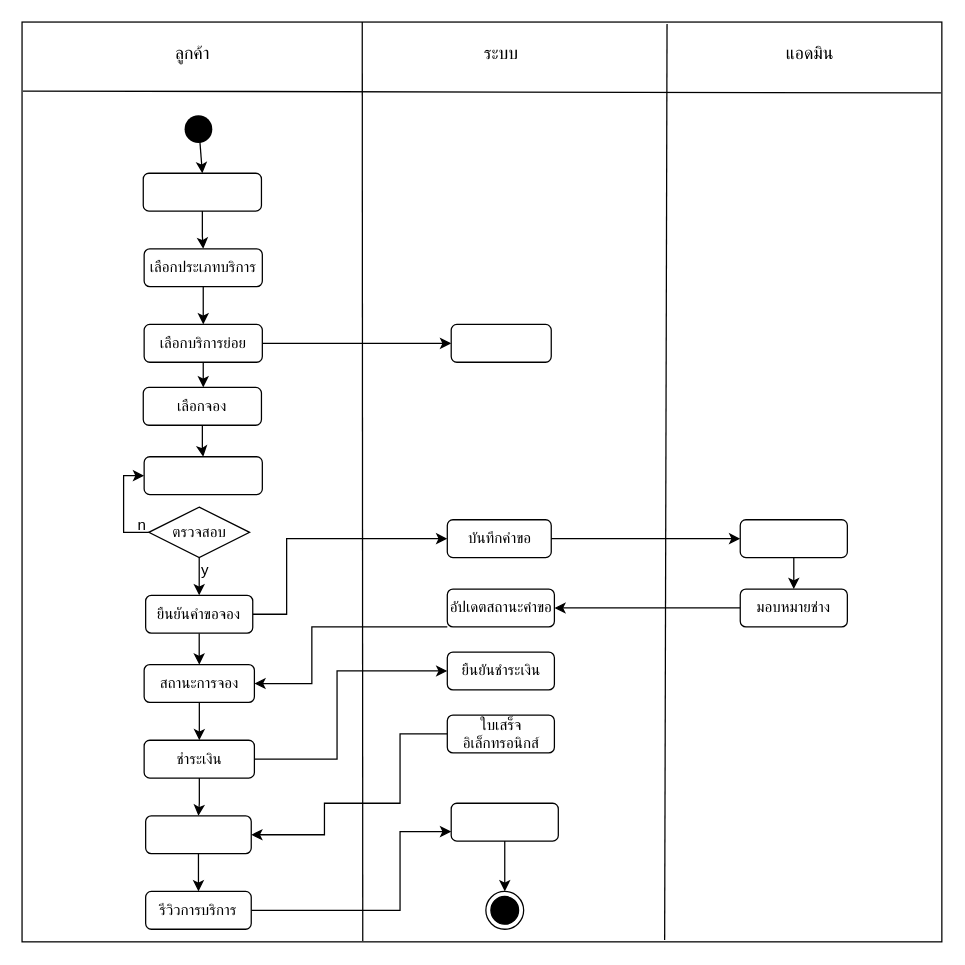
Image size: 965x965. Some labels were removed from this diagram. The shapes that lost their labels are listed below. From the top down, each one's centre as x and y in pixels, then its label:
At (x=201, y=191): "เข้าสู่ระบบ".
At (x=500, y=342): "คำนวนค่าบริการ".
At (x=202, y=475): "กรอกข้อมูล".
At (x=793, y=538): "ตรวจสอบคำขอบริการ".
At (x=197, y=834): "รอการดำเนินการ".
At (x=504, y=821): "บันทึกรีวิว".
